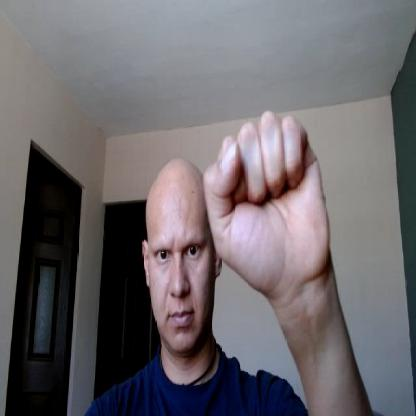S: (204, 104, 328, 296)
